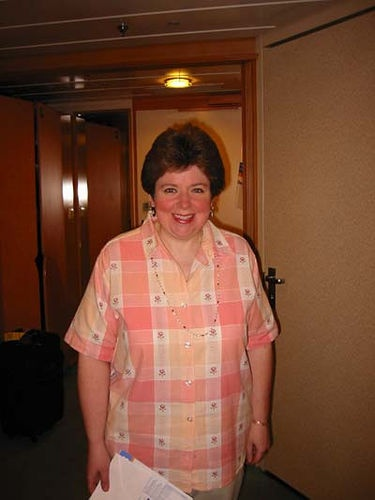head: (143, 125, 225, 240)
person: (57, 117, 280, 497)
